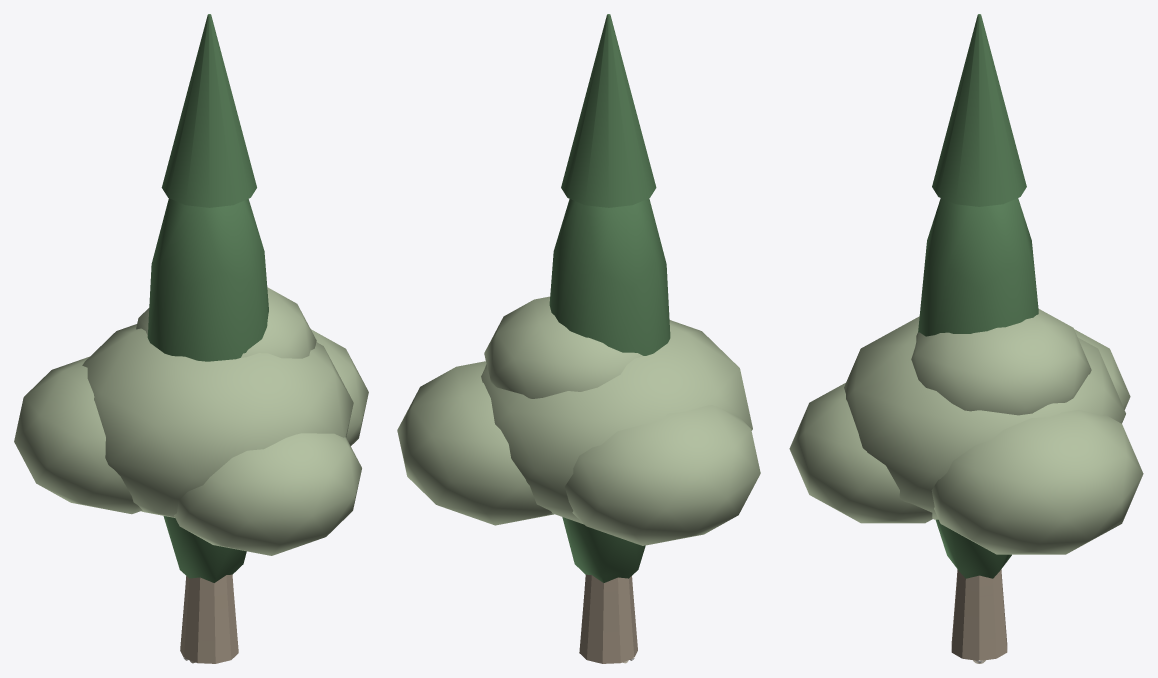
Rendered from props.glb.
3 renders of one model, left to right at view 1: azimuth 30°, elevation 25°; view 2: azimuth 150°, elevation 25°; view 3: azimuth 270°, elevation 25°, orthographic.
Parts seen in each view (by area): view 1: SM_Olive, SM_Cypress; view 2: SM_Olive, SM_Cypress; view 3: SM_Olive, SM_Cypress.
Boxes of the visible parts, x1,y1,x2,y2 form: SM_Olive: (14,287,368,663); SM_Cypress: (147,14,268,582); SM_Olive: (397,296,760,663); SM_Cypress: (549,14,670,582); SM_Olive: (789,309,1143,660); SM_Cypress: (918,14,1038,578).
Size of the model in its own units: 4.33 by 8.19 by 4.1.
